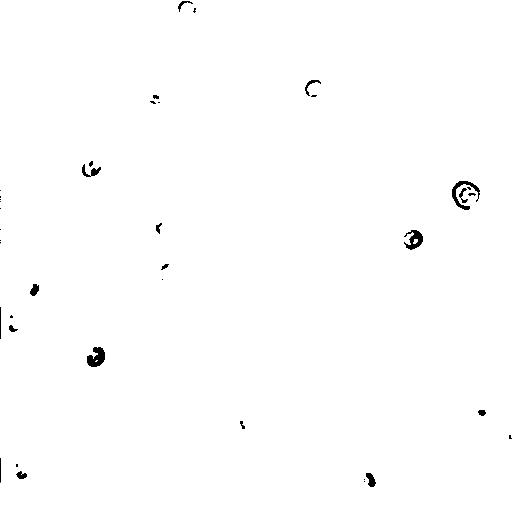micro-algae: (351, 28, 409, 91), (1, 451, 39, 488), (0, 301, 33, 338), (15, 275, 50, 307), (451, 179, 482, 211), (158, 262, 188, 290), (232, 409, 256, 436), (82, 343, 105, 369), (153, 214, 174, 238), (401, 229, 424, 250), (80, 157, 103, 178), (471, 403, 495, 423), (494, 423, 511, 451), (304, 77, 324, 98), (177, 0, 197, 19), (362, 471, 377, 489)
